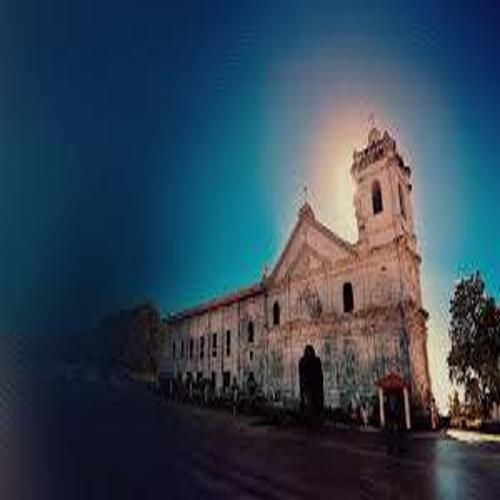Sto. Nino Basilica Church: (267, 102, 448, 440)
